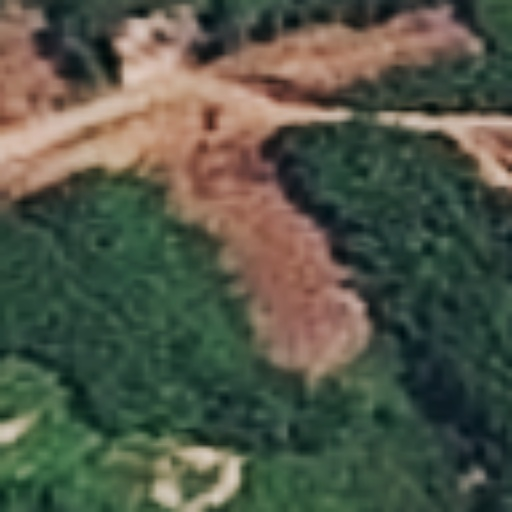landslide: (1, 3, 482, 371)
